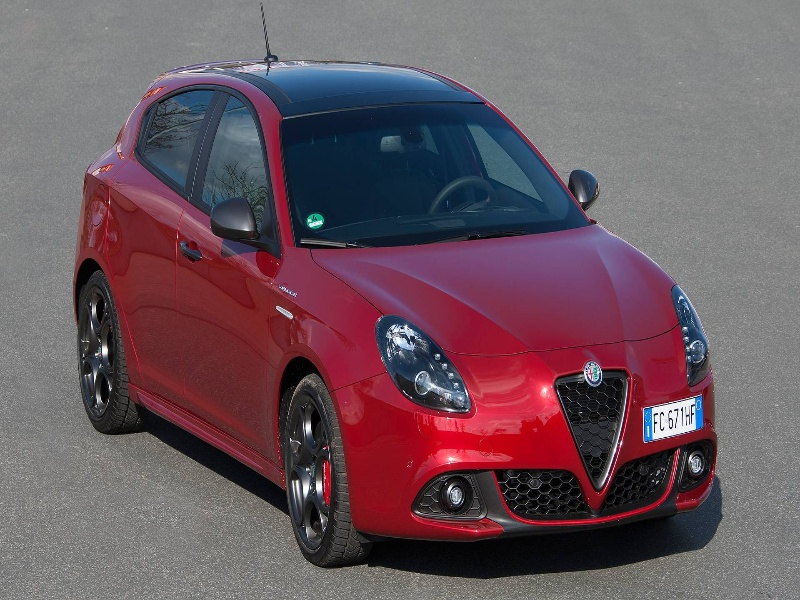licenceplate: (642, 391, 705, 442)
